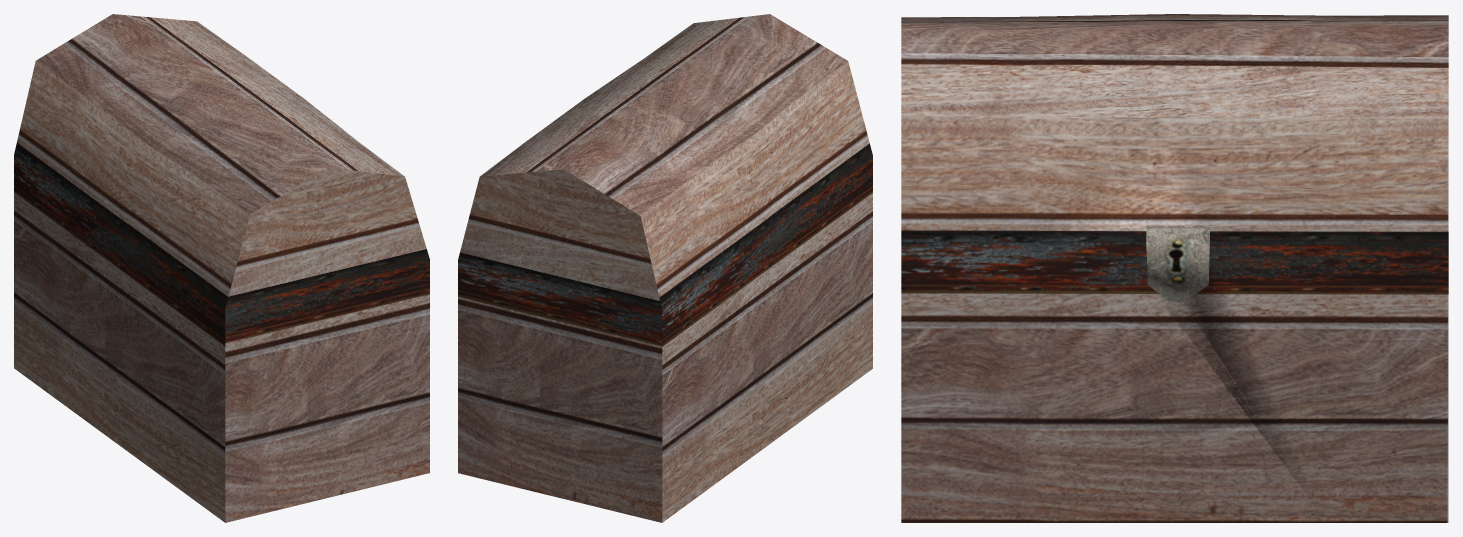
File: chest.obj
3 views of the same model, side by side, from view 1: azimuth 30°, elevation 25°; view 2: azimuth 150°, elevation 25°; view 3: azimuth 270°, elevation 25° (orthographic). The views are drawn at different scales.
Bounding box in the file's own units: 2.06 × 3.09 × 3.58.
Materials: 1 (1 with a texture image).
